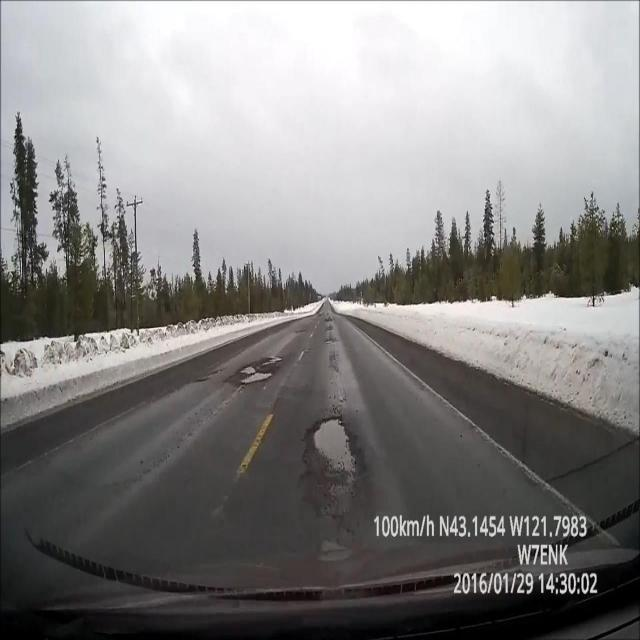Pothole: (310, 408, 363, 484), (240, 354, 284, 391)
